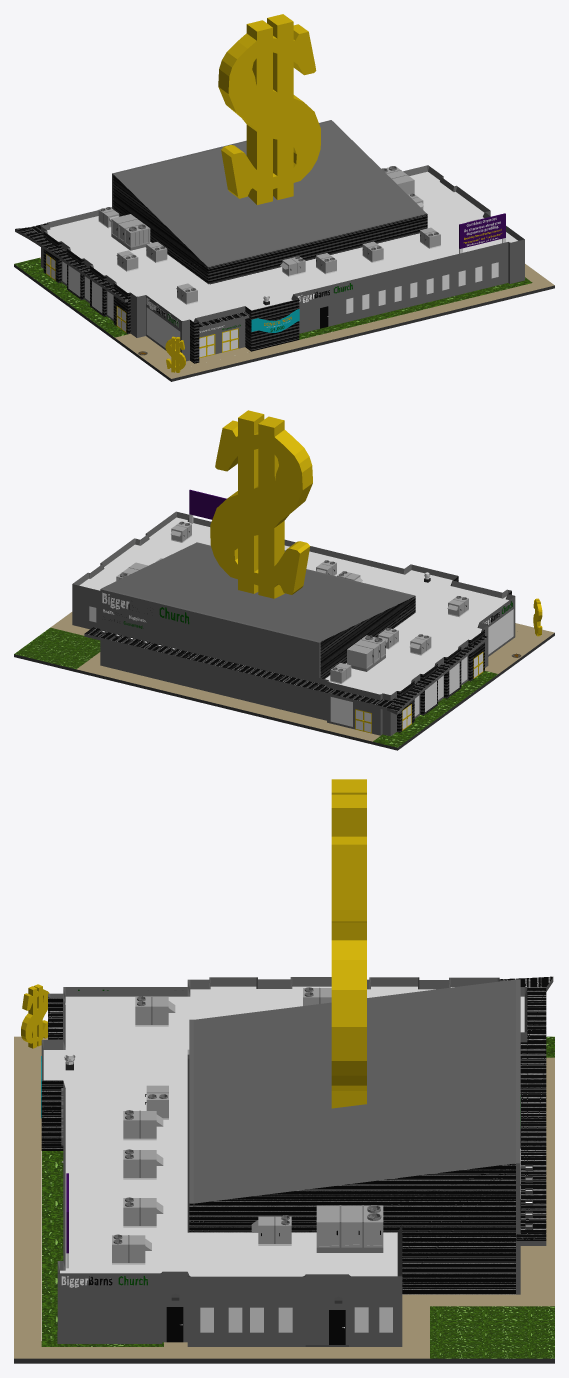
Rendered from Megachurch.glb.
3 views of the same model, one above another, from view 1: azimuth 30°, elevation 25°; view 2: azimuth 150°, elevation 25°; view 3: azimuth 270°, elevation 25° (orthographic). The views are drawn at different scales.
Visible parts, largest first — view 1: High Roof, Ext Walls, Roof, Dollar Sign, Ground, Sanctuary, RTUs, Canopy, GO Billboard, Locked Doors Two, Banner1, Text.002; view 2: Sanctuary, Dollar Sign, High Roof, Roof, Ground, Ext Walls, Canopy, RTUs, Locked Doors Two, GO Billboard, Sign.001; view 3: High Roof, Roof, Ground, Ext Walls, Sanctuary, Dollar Sign, RTUs, Canopy.
Part boxes in pixels (left/top/right/bottom): High Roof: left=116, top=121, right=423, bottom=265; Ext Walls: left=41, top=165, right=524, bottom=363; Roof: left=47, top=171, right=517, bottom=321; Dollar Sign: left=165, top=14, right=320, bottom=372; Ground: left=14, top=257, right=554, bottom=381; Sanctuary: left=112, top=120, right=427, bottom=284; RTUs: left=98, top=166, right=478, bottom=304; Canopy: left=15, top=207, right=249, bottom=329; GO Billboard: left=459, top=213, right=505, bottom=253; Locked Doors Two: left=46, top=254, right=238, bottom=358; Banner1: left=251, top=309, right=299, bottom=332; Text.002: left=463, top=217, right=501, bottom=246; Sanctuary: left=100, top=542, right=415, bottom=718; Dollar Sign: left=210, top=410, right=542, bottom=636; High Roof: left=104, top=543, right=411, bottom=640; Roof: left=79, top=517, right=508, bottom=694; Ground: left=14, top=612, right=554, bottom=750; Ext Walls: left=72, top=511, right=515, bottom=736; Canopy: left=84, top=627, right=487, bottom=714; RTUs: left=116, top=521, right=468, bottom=684; Locked Doors Two: left=355, top=652, right=483, bottom=733; GO Billboard: left=189, top=489, right=226, bottom=523; Sign.001: left=102, top=593, right=189, bottom=624; High Roof: left=193, top=981, right=515, bottom=1201; Roof: left=43, top=986, right=524, bottom=1276; Ground: left=14, top=1036, right=554, bottom=1363; Ext Walls: left=41, top=977, right=527, bottom=1346; Sanctuary: left=189, top=979, right=520, bottom=1294; Dollar Sign: left=21, top=779, right=366, bottom=1108; RTUs: left=112, top=987, right=383, bottom=1264; Canopy: left=48, top=976, right=553, bottom=1245.
Size of what is drawn, in the model's own units: 41.72 by 24.99 by 29.62.
54 materials, 4 textured.
